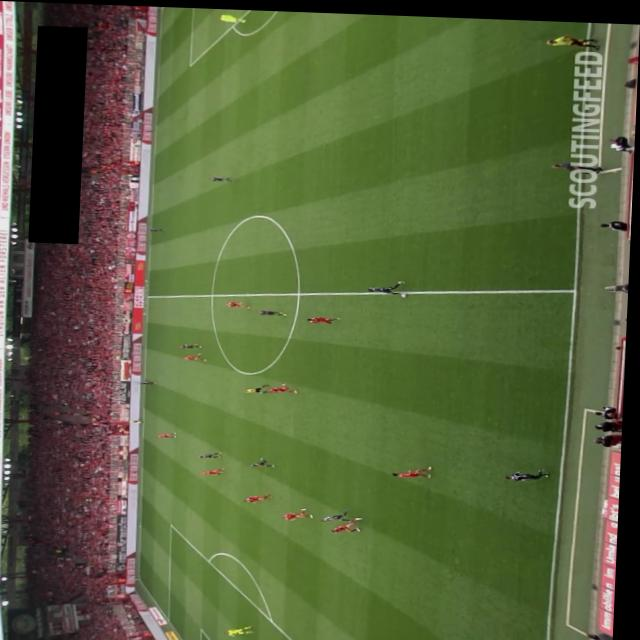goalkeeper: (231, 621, 260, 634), (219, 11, 244, 20)
player: (370, 276, 411, 293), (509, 463, 554, 478), (396, 461, 437, 475), (336, 513, 368, 530), (325, 504, 356, 519), (286, 504, 319, 518), (269, 380, 301, 391), (248, 491, 276, 502), (254, 454, 279, 465), (309, 313, 343, 321), (205, 464, 231, 473), (260, 307, 289, 314), (229, 298, 253, 306), (187, 350, 210, 358), (211, 173, 235, 180), (203, 449, 226, 456), (139, 377, 161, 384), (161, 429, 181, 436), (182, 341, 205, 347), (152, 226, 167, 230)
referee: (547, 28, 600, 45), (246, 381, 273, 391), (132, 417, 148, 422)
